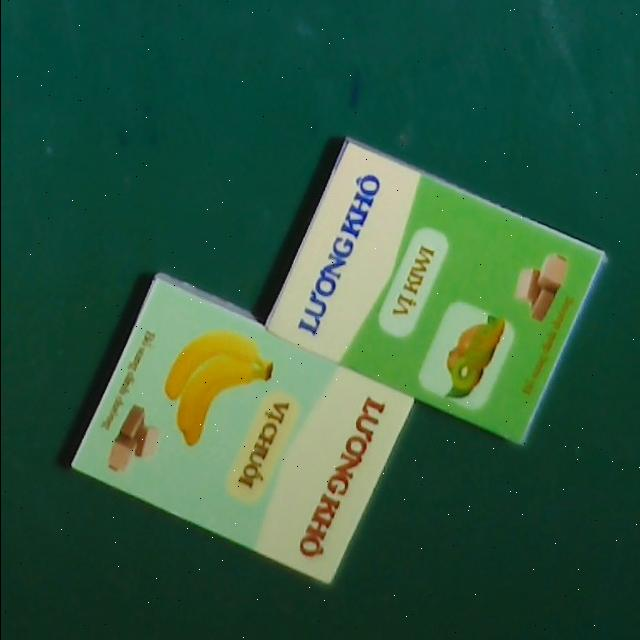chuoi: (66, 269, 417, 586)
kiwi: (258, 135, 608, 447)
